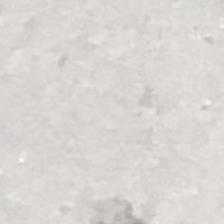Non_Crack: (24, 39, 216, 197)
